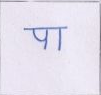aa_matra: (58, 29, 61, 50)
